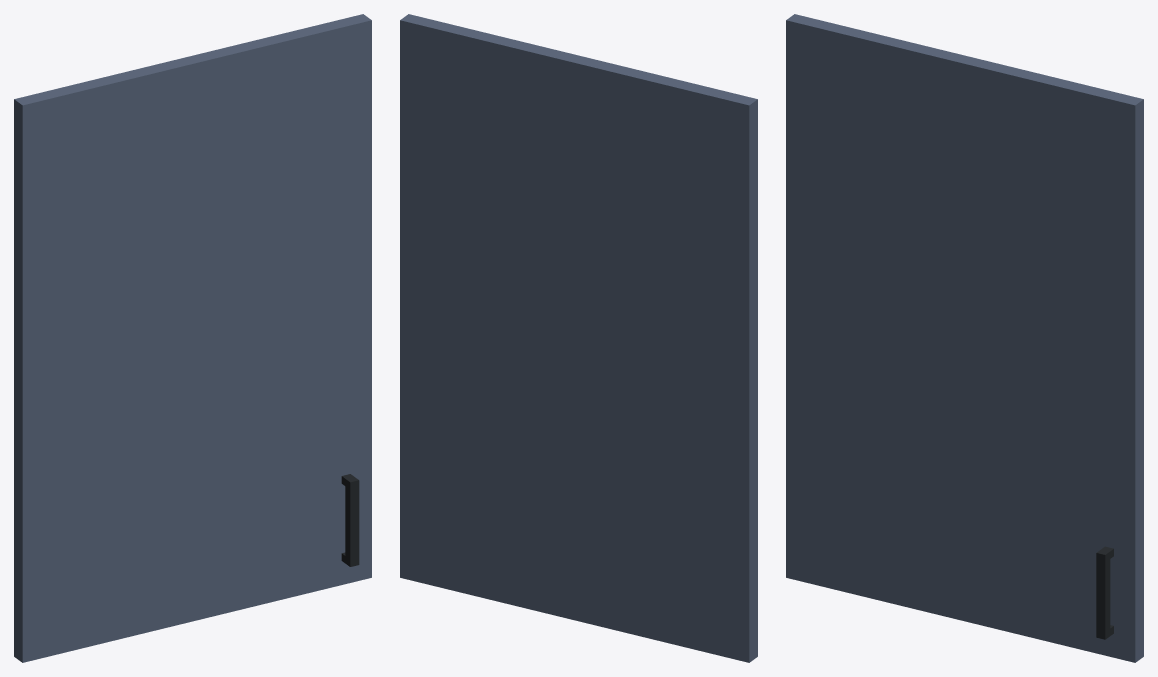
The model's file is Door1_C4_12.fbx.
3 renders of one model, left to right at view 1: azimuth 30°, elevation 25°; view 2: azimuth 150°, elevation 25°; view 3: azimuth 330°, elevation 25°, orthographic.
Parts seen in each view (by area): view 1: Door1_C4_12; view 2: Door1_C4_12; view 3: Door1_C4_12.
Boxes of the visible parts, bbox=[...] form: Door1_C4_12: bbox=[14, 14, 371, 662]; Door1_C4_12: bbox=[400, 14, 757, 662]; Door1_C4_12: bbox=[786, 14, 1143, 662].
Bounding box in the file's own units: 59 × 90 × 5.03.
